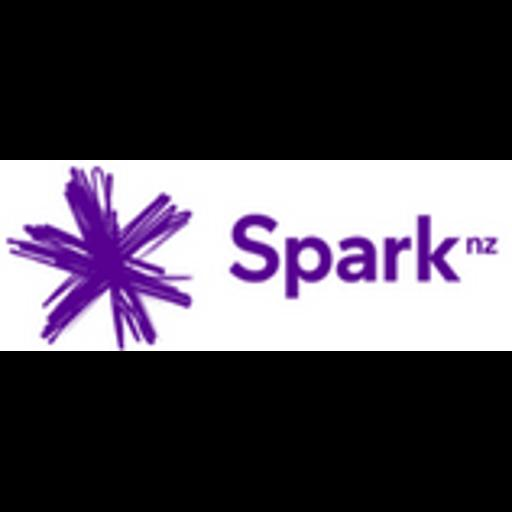Spark New Zealand: (0, 160, 512, 351)
